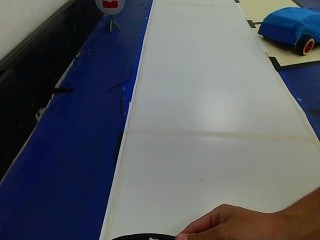car: (255, 5, 320, 58)
